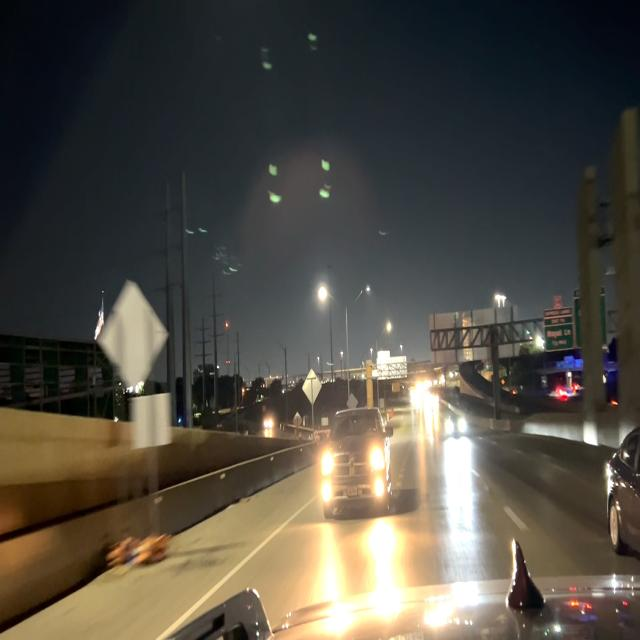back-of-sign: (102, 283, 168, 390), (431, 308, 519, 366), (130, 393, 175, 446), (303, 369, 323, 405)
